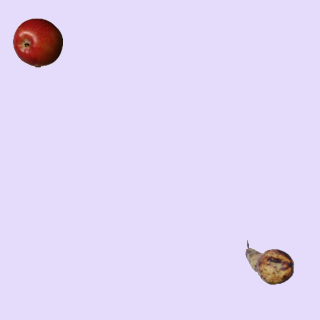Apple Braeburn: (12, 17, 62, 67)
Pear Abate: (244, 237, 294, 287)
